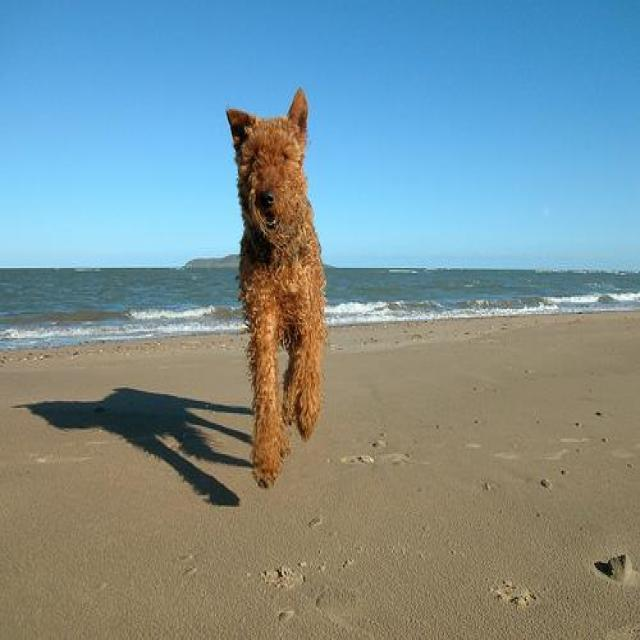airedale: (225, 87, 328, 488)
